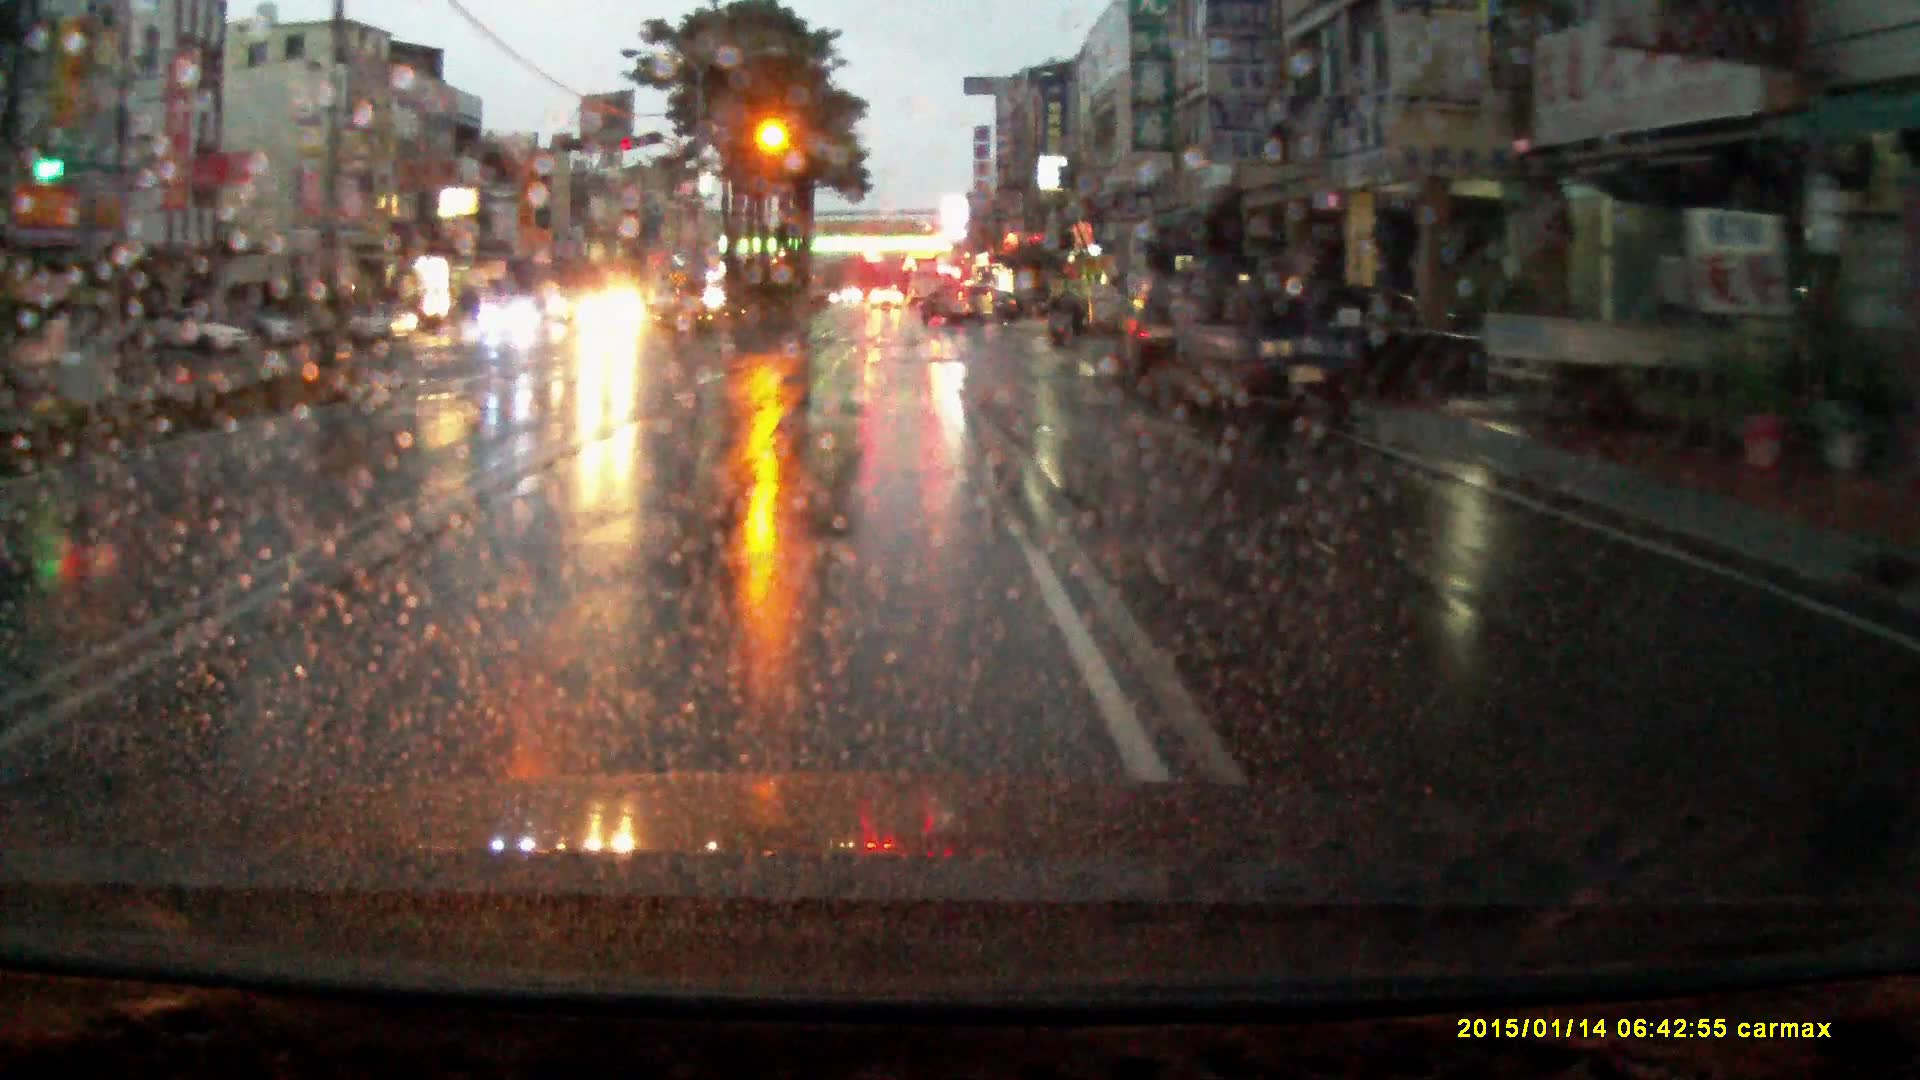vehicle: (1485, 272, 1830, 442), (1178, 251, 1366, 417), (1124, 269, 1183, 400), (127, 310, 251, 361), (574, 287, 651, 345), (349, 301, 417, 353), (922, 284, 998, 328), (229, 307, 299, 353), (481, 295, 545, 342), (909, 258, 945, 305), (869, 287, 905, 313), (994, 293, 1019, 322)
